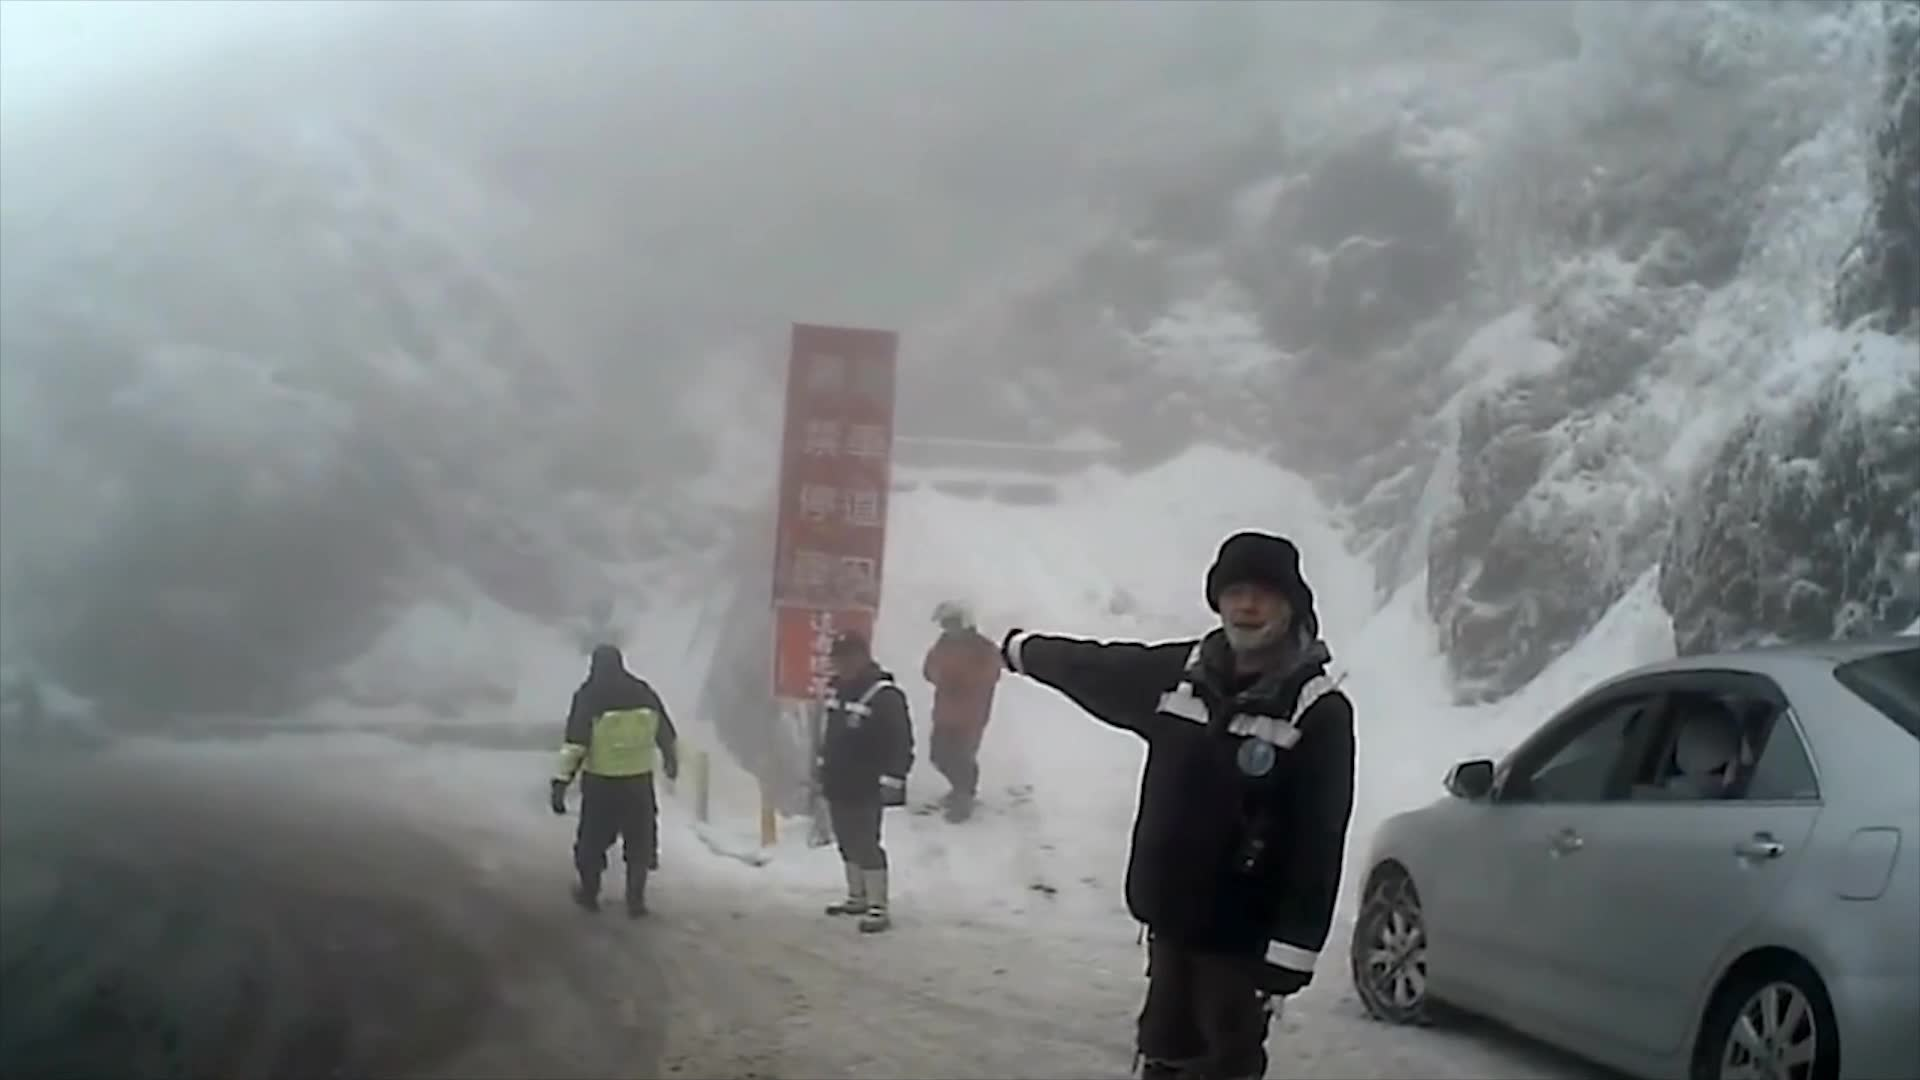pedestrian: (1004, 524, 1365, 1080), (543, 649, 694, 917), (810, 628, 917, 937), (921, 599, 1007, 822)
vehicle: (1348, 638, 1920, 1080)
